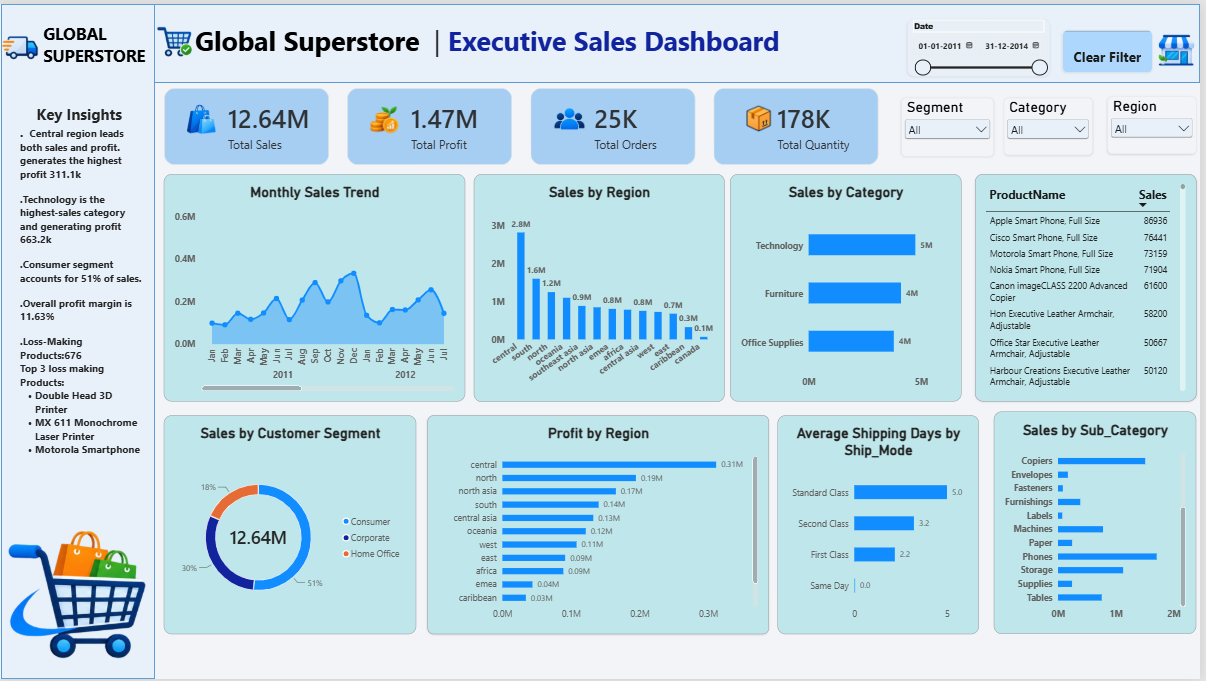

This screenshot's page, from the dashboard's own definition file:
{"tool":"powerbi","page":{"name":"Sales Overview","canvas":[1920,1080],"ordinal":0},"visuals":[{"type":"cardVisual","fields":{"Data":["DateTable.Total Sales","DateTable.Total Profit","DateTable.Total Orders","DateTable.Total Quantity"]},"box":[262,134,1144,124],"z":0},{"type":"clusteredBarChart","title":"Sales by Category","fields":{"Category":["clean.Category"],"Y":["Sum(clean.sales)"]},"box":[1168,272,370,364],"z":1000},{"type":"clusteredColumnChart","title":"Sales by Region","fields":{"Category":["clean.Region"],"Y":["Sum(clean.sales)"]},"box":[758,272,401.2,364.4],"z":2000},{"type":"donutChart","title":"Sales by Customer Segment","fields":{"Category":["clean.Segment"],"Y":["Sum(clean.sales)"]},"box":[262,658,404,350],"z":3000},{"type":"shape","box":[246,0,1674,126],"z":4000},{"type":"shape","box":[2,0,246,1080],"z":5000},{"type":"slicer","title":"Year","fields":{"Values":["clean.Order_Date"]},"box":[1452,24,228,92],"z":6000},{"type":"slicer","title":"Year","fields":{"Values":["clean.Region"]},"box":[1772,148,142,92],"z":7000},{"type":"slicer","title":"Year","fields":{"Values":["clean.Category"]},"box":[1606,150,142,92],"z":8000},{"type":"slicer","title":"Year","fields":{"Values":["clean.Segment"]},"box":[1442,150,148,94],"z":9000},{"type":"textbox","box":[64,28,248,100],"z":10000},{"type":"textbox","box":[312,28,1042,82],"z":11000},{"type":"clusteredBarChart","title":"Profit by Region","fields":{"Category":["clean.Region"],"Y":["DateTable.Total Profit"]},"box":[684,658,546,350],"z":12000},{"type":"clusteredBarChart","fields":{"Category":["clean.Ship_Mode"],"Y":["DateTable.Average Shipping Days"]},"box":[1244,658,322,350],"z":13000},{"type":"tableEx","fields":{"Values":["clean.Product_Name","Sum(clean.sales)"]},"box":[1560,272,354,364],"z":14000},{"type":"areaChart","title":"Monthly Sales Trend","fields":{"Category":["DateTable.Year","DateTable.Month"],"Y":["Sum(clean.sales)"]},"box":[262,272,482,364],"z":15000},{"type":"image","box":[0,6,64,128],"z":16000},{"type":"image","box":[884,134,54,100],"z":17000},{"type":"image","box":[1184,160,60,46],"z":18000},{"type":"image","box":[248,14,64,92],"z":19000},{"type":"image","box":[590,146,50,78],"z":20000},{"type":"image","box":[0,810,246,270],"z":21000},{"type":"image","box":[296,144,52,80],"z":22000},{"type":"image","box":[1844,42,76,64],"z":23000},{"type":"clusteredBarChart","title":"Sales by Sub_Category","fields":{"Category":["clean.Sub_Category"],"Y":["Sum(clean.sales)"]},"box":[1590,652,324,356],"z":24000},{"type":"actionButton","box":[1700,42,144,68],"z":25000},{"type":"textbox","box":[32,160,196,650],"z":25001}]}

Visuals, with their boxes in screenshot pixels (x1, y1, x2, y2), scaled from the page's 1920x1080 canvas onto the 1206x681 screenshot:
cardVisual - DateTable.Total Sales x DateTable.Total Profit: <bbox>165, 84, 883, 163</bbox>
"Sales by Category" clusteredBarChart: <bbox>734, 172, 966, 401</bbox>
"Sales by Region" clusteredColumnChart: <bbox>476, 172, 728, 401</bbox>
"Sales by Customer Segment" donutChart: <bbox>165, 415, 418, 636</bbox>
shape: <bbox>155, 0, 1205, 79</bbox>
shape: <bbox>1, 0, 156, 680</bbox>
"Year" slicer: <bbox>912, 15, 1055, 73</bbox>
"Year" slicer: <bbox>1113, 93, 1202, 151</bbox>
"Year" slicer: <bbox>1009, 95, 1098, 153</bbox>
"Year" slicer: <bbox>906, 95, 999, 154</bbox>
textbox: <bbox>40, 18, 196, 81</bbox>
textbox: <bbox>196, 18, 850, 69</bbox>
"Profit by Region" clusteredBarChart: <bbox>430, 415, 773, 636</bbox>
clusteredBarChart - clean.Ship_Mode x DateTable.Average Shipping Days: <bbox>781, 415, 984, 636</bbox>
tableEx - clean.Product_Name x Sum(clean.sales): <bbox>980, 172, 1202, 401</bbox>
"Monthly Sales Trend" areaChart: <bbox>165, 172, 467, 401</bbox>
image: <bbox>0, 4, 40, 84</bbox>
image: <bbox>555, 84, 589, 148</bbox>
image: <bbox>744, 101, 781, 130</bbox>
image: <bbox>156, 9, 196, 67</bbox>
image: <bbox>371, 92, 402, 141</bbox>
image: <bbox>0, 511, 155, 680</bbox>
image: <bbox>186, 91, 219, 141</bbox>
image: <bbox>1158, 26, 1205, 67</bbox>
"Sales by Sub_Category" clusteredBarChart: <bbox>999, 411, 1202, 636</bbox>
actionButton: <bbox>1068, 26, 1158, 69</bbox>
textbox: <bbox>20, 101, 143, 511</bbox>
